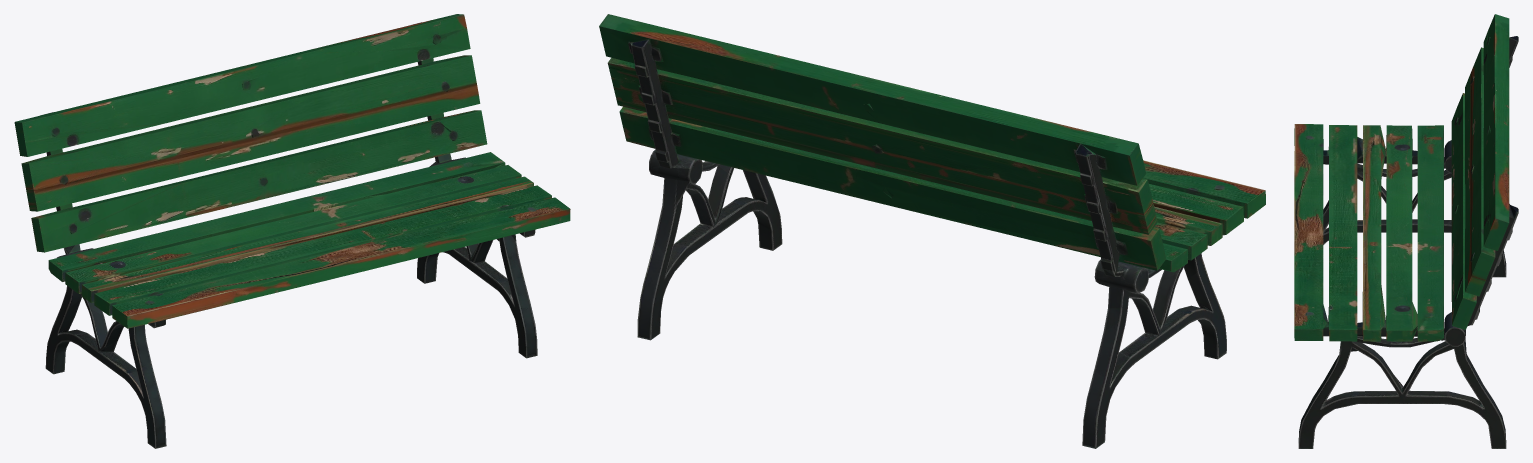
Rendered from bench.glb.
3 renders of one model, left to right at view 1: azimuth 30°, elevation 25°; view 2: azimuth 150°, elevation 25°; view 3: azimuth 270°, elevation 25°, orthographic. The views are drawn at different scales.
Bounding box in the file's own units: 1.9 × 1.06 × 0.8787.
1 material, 1 textured.
